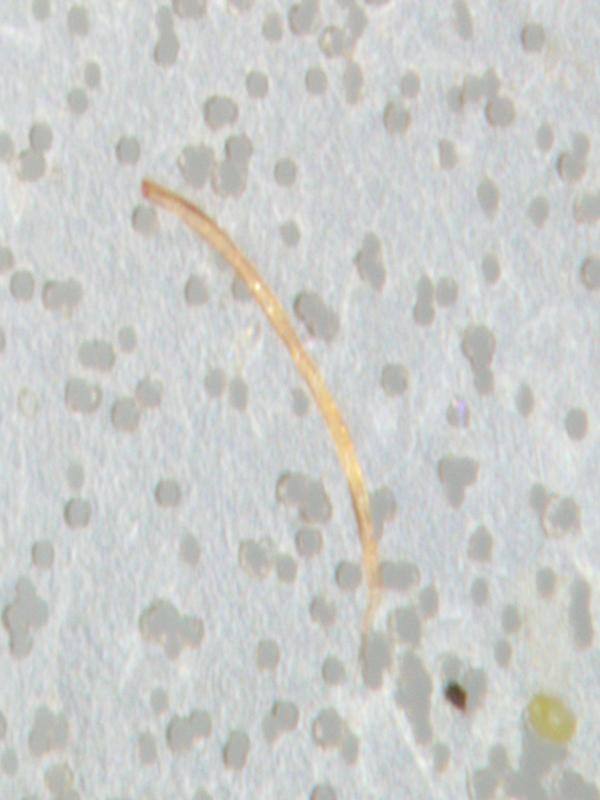microplastic: (1, 1, 598, 797), (138, 173, 385, 662)
